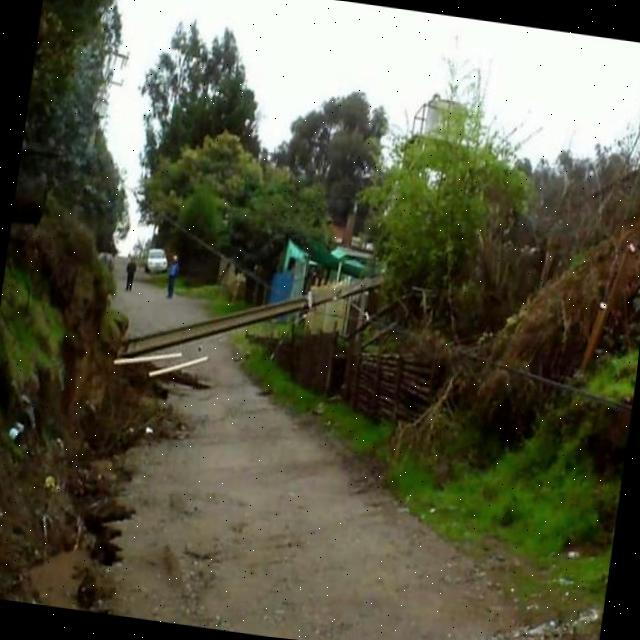Broken Pole: (116, 269, 390, 360)
